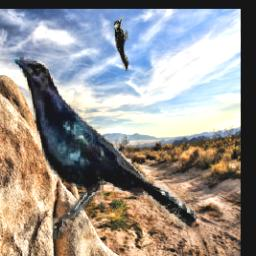Crow: (12, 58, 197, 240)
Woodpecker: (111, 17, 130, 75)
